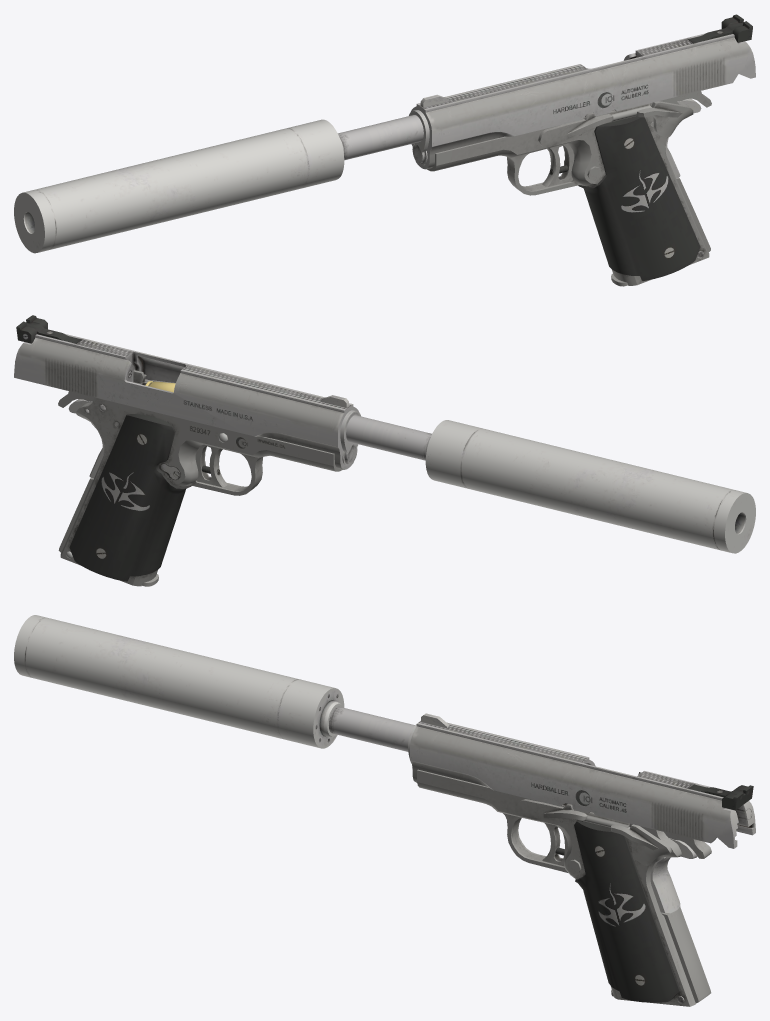
The model's file is pistol_draco.glb.
3 renders of one model, top to bottom at view 1: azimuth 30°, elevation 25°; view 2: azimuth 150°, elevation 25°; view 3: azimuth 330°, elevation 25°, orthographic.
Visible parts, largest first — view 1: Hardballer_Frame_Hardballer_0, Hardballer_Silencer_Hardballer_Silencer_0; view 2: Hardballer_Frame_Hardballer_0, Hardballer_Silencer_Hardballer_Silencer_0; view 3: Hardballer_Frame_Hardballer_0, Hardballer_Silencer_Hardballer_Silencer_0.
Boxes of the visible parts, x1,y1,x2,y2 form: Hardballer_Frame_Hardballer_0: (338, 14, 755, 286); Hardballer_Silencer_Hardballer_Silencer_0: (14, 119, 344, 253); Hardballer_Frame_Hardballer_0: (14, 315, 431, 586); Hardballer_Silencer_Hardballer_Silencer_0: (425, 420, 755, 553); Hardballer_Frame_Hardballer_0: (329, 706, 755, 1006); Hardballer_Silencer_Hardballer_Silencer_0: (14, 615, 344, 748).
Bounding box in the file's own units: 15.98 × 4.94 × 1.24.
2 materials, 2 textured.
